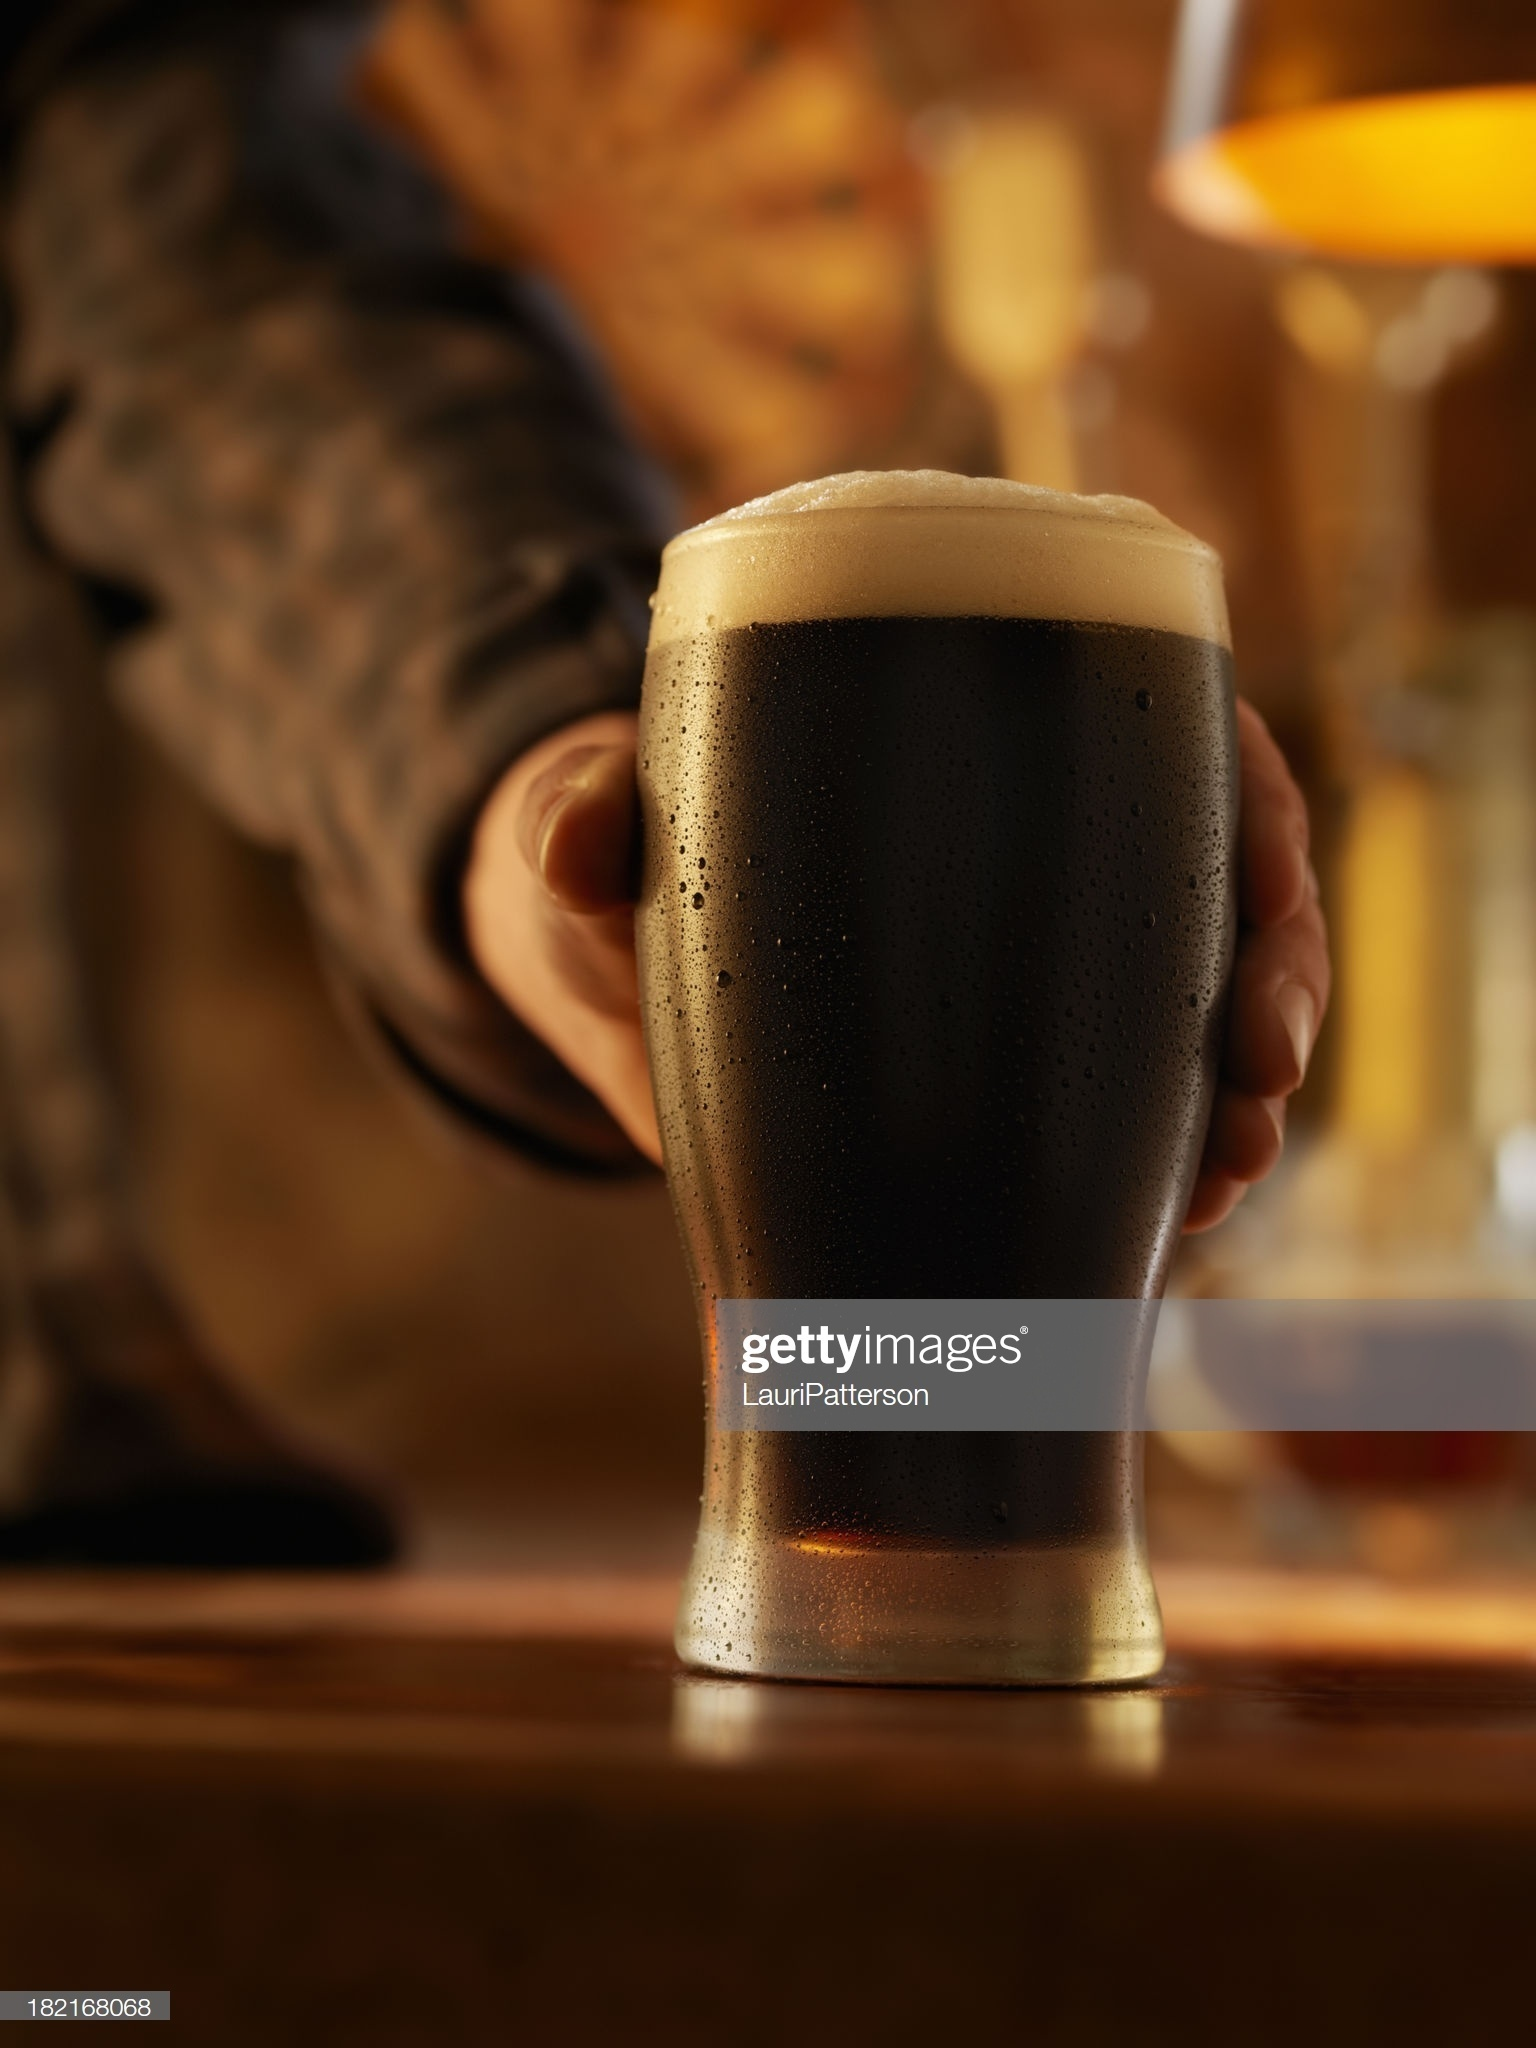whiskey: (620, 526, 1270, 1684)
